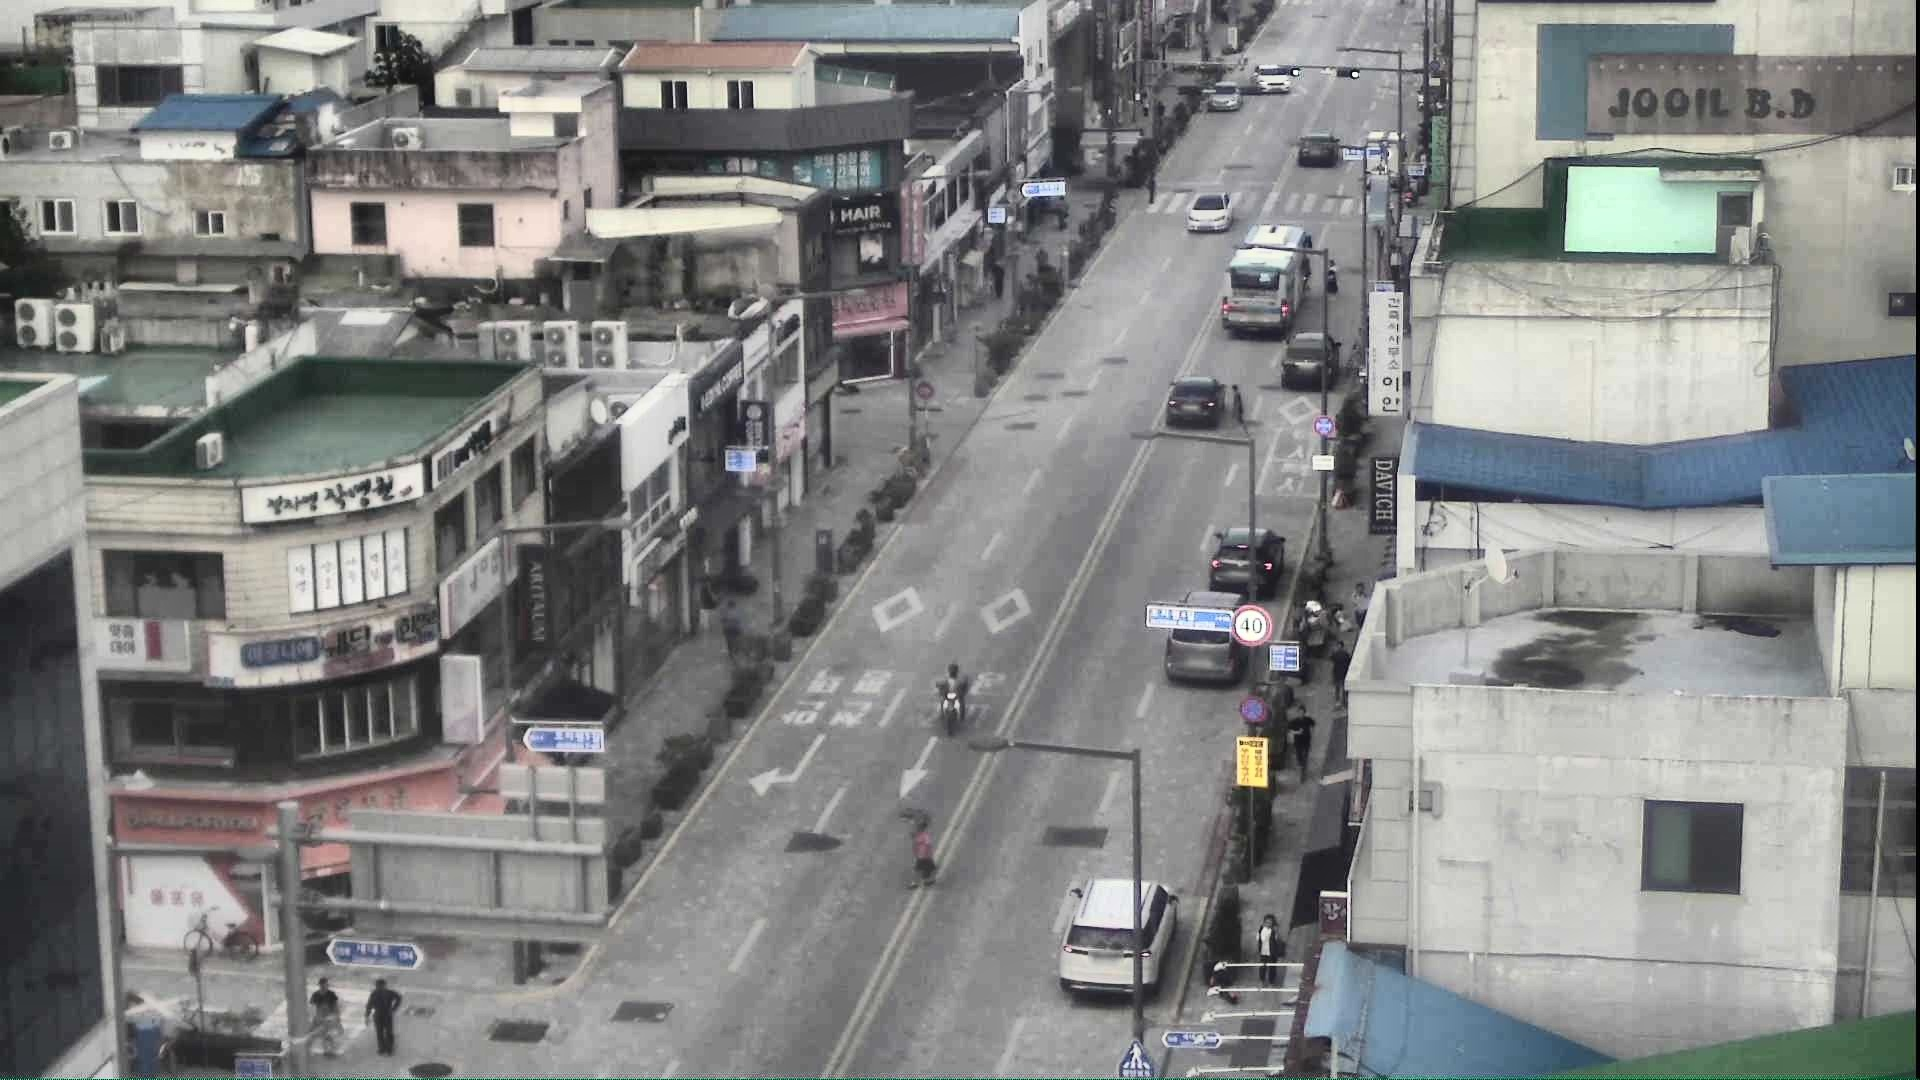crosswalk: (1145, 171, 1159, 203)
jaywalk: (364, 976, 404, 1062), (307, 973, 344, 1054), (906, 810, 942, 890), (1226, 382, 1245, 430), (1324, 258, 1341, 295)
sidewalk: (1283, 702, 1317, 783), (1255, 909, 1286, 993), (692, 572, 723, 645), (1328, 636, 1356, 711), (719, 597, 744, 657), (1349, 580, 1374, 640), (993, 256, 1002, 302), (1056, 196, 1067, 229)
